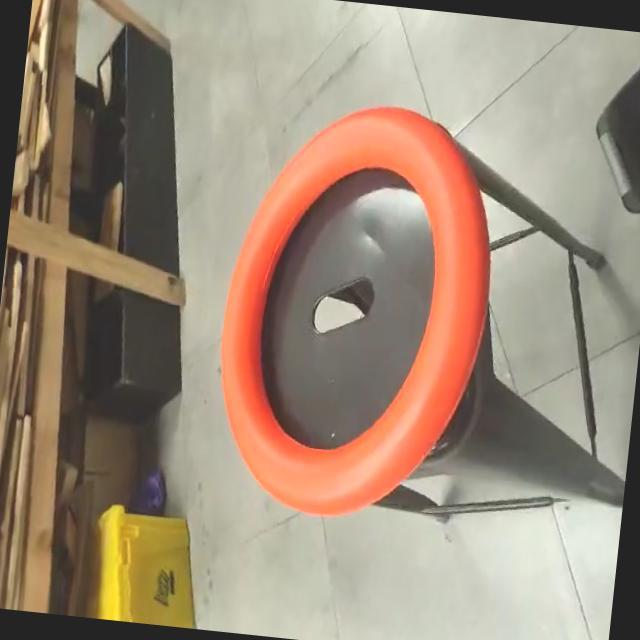note: (194, 88, 516, 538)
